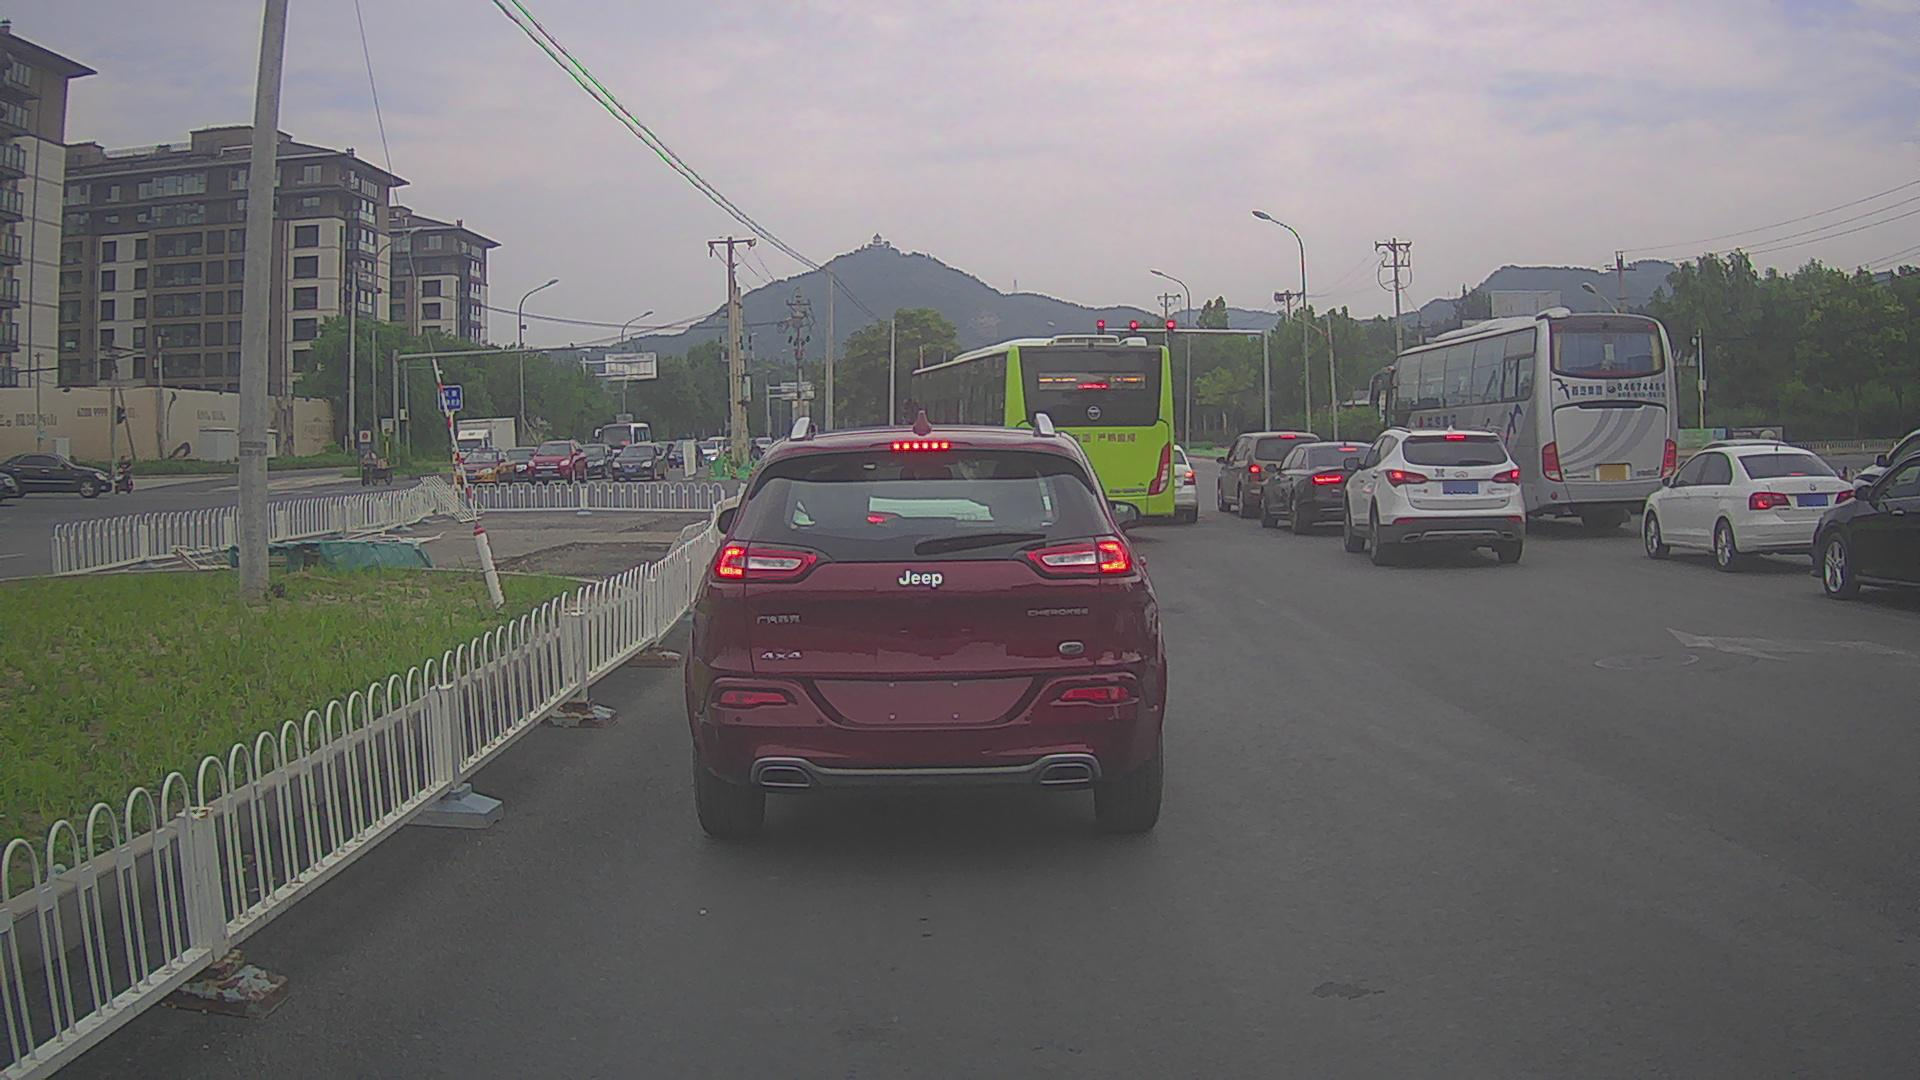bus: (1370, 305, 1677, 531), (901, 334, 1175, 535), (594, 422, 651, 463)
car: (682, 414, 1168, 837), (1641, 446, 1855, 572), (1342, 424, 1525, 566), (1259, 441, 1389, 533), (1216, 433, 1324, 516), (0, 451, 113, 498), (525, 439, 588, 485), (455, 445, 515, 487), (611, 443, 668, 481), (500, 446, 550, 481), (571, 443, 615, 477), (667, 442, 704, 467), (691, 440, 720, 465), (755, 437, 772, 454)
ignore: (1812, 432, 1918, 601), (1172, 444, 1198, 525), (708, 437, 731, 454)
motorcyclist: (113, 454, 134, 494)
pedestrian: (750, 440, 761, 473)
tricyclelist: (359, 447, 393, 486)
truck: (451, 417, 516, 472)
